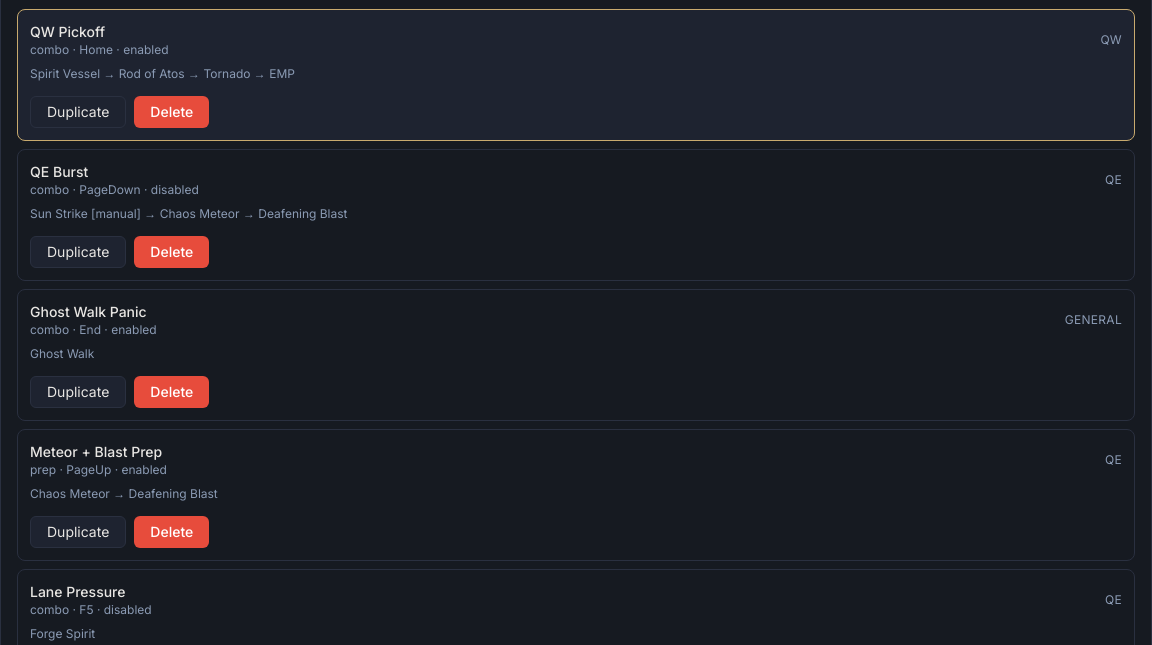
Test: InvokerConfig › clears the active combo when the active profile is disabled
The image size is (1152, 645).
(page scrolled)
Click the button "Ghost Walk Panic combo · End · enabled general Ghost Walk" at (88,312), box [30,302,1122,362]
(page scrolled)
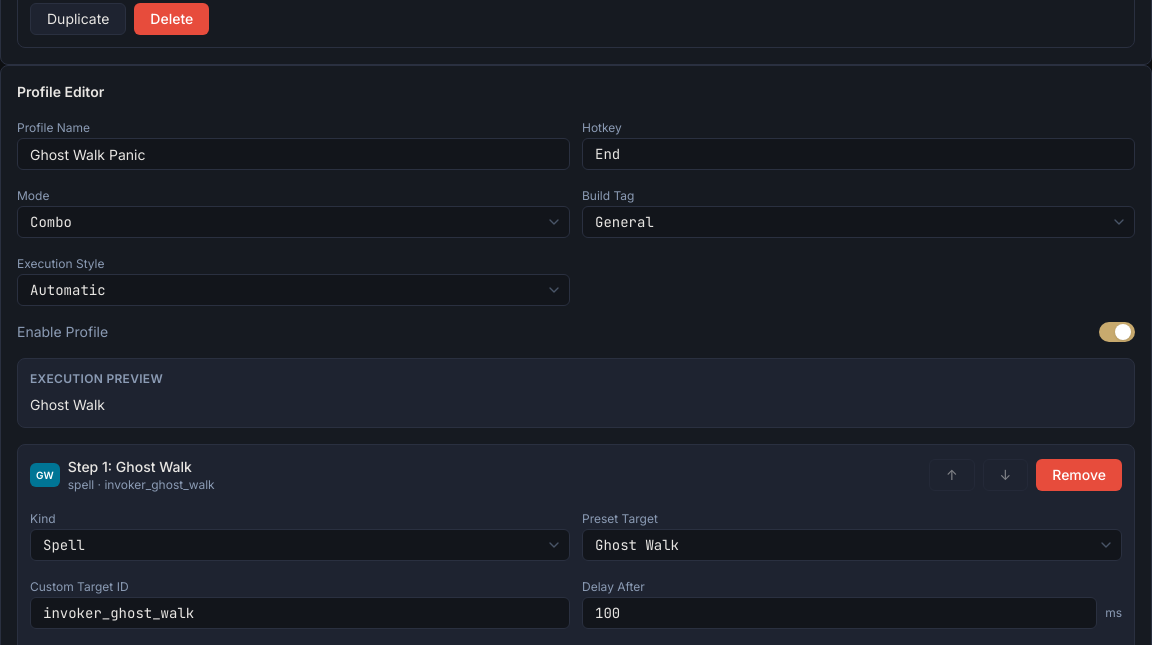
Click the switch named "Enable Profile" at (1117,332), box [1099,322,1135,342]
(page scrolled)
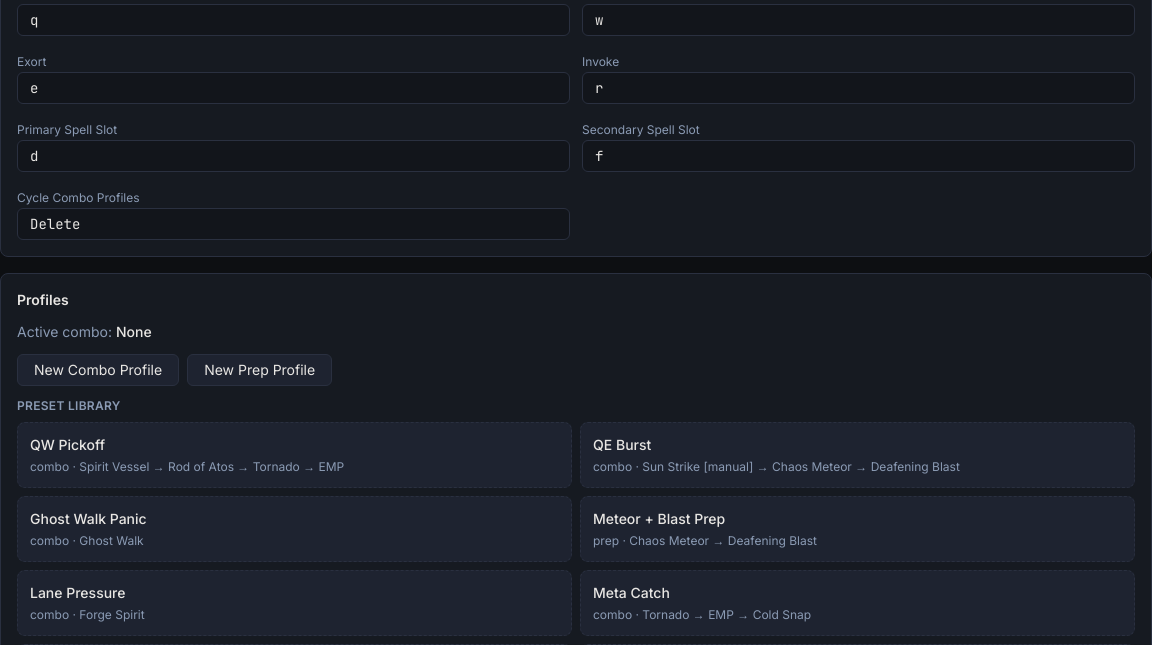
Now the text "Active combo: None" is shown, box [17,323,152,340]
